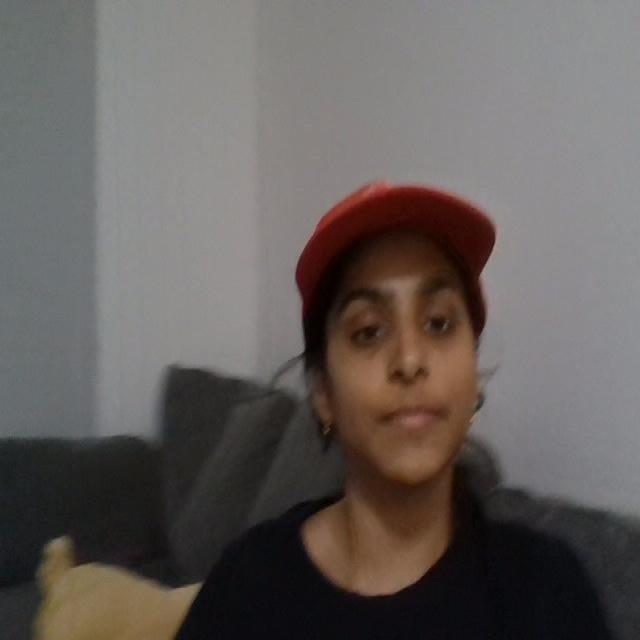Hat: (274, 146, 499, 266)
